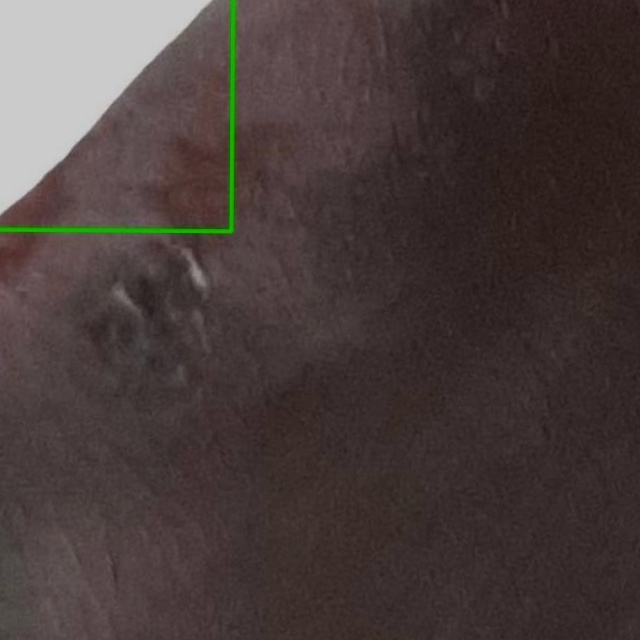Eczema: (0, 0, 233, 231)
